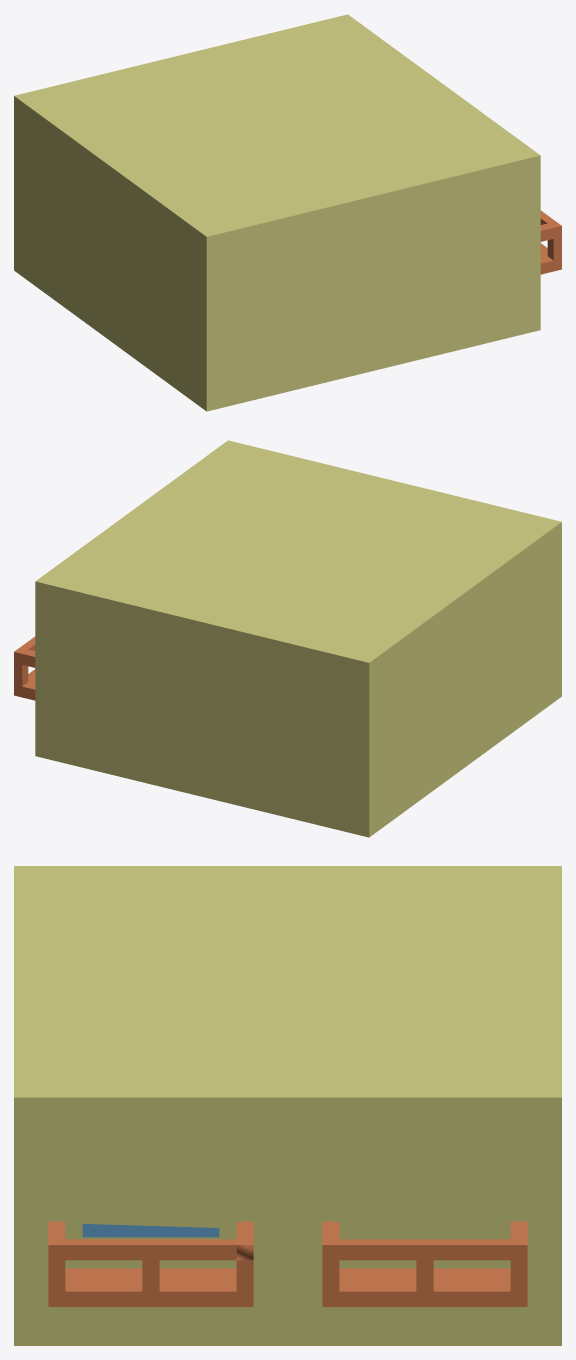
File: BalconyBuilding.fbx
The picture shows the model from 3 angles, top to bottom: view 1: azimuth 30°, elevation 25°; view 2: azimuth 150°, elevation 25°; view 3: azimuth 270°, elevation 25°; orthographic projection. The views are drawn at different scales.
Parts seen in each view (by area): view 1: Cube; view 2: Cube; view 3: Cube.
Boxes of the visible parts, left/top/right/bottom form: Cube: left=14, top=14, right=561, bottom=411; Cube: left=14, top=440, right=561, bottom=837; Cube: left=14, top=866, right=561, bottom=1345.
Bounding box in the file's own units: 880 × 400 × 800.
